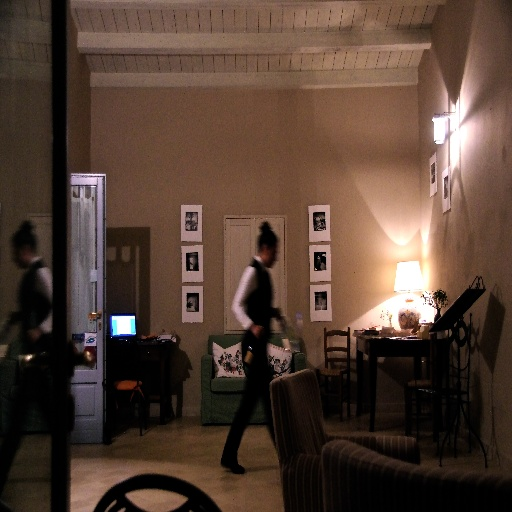hand: (251, 324, 260, 336)
